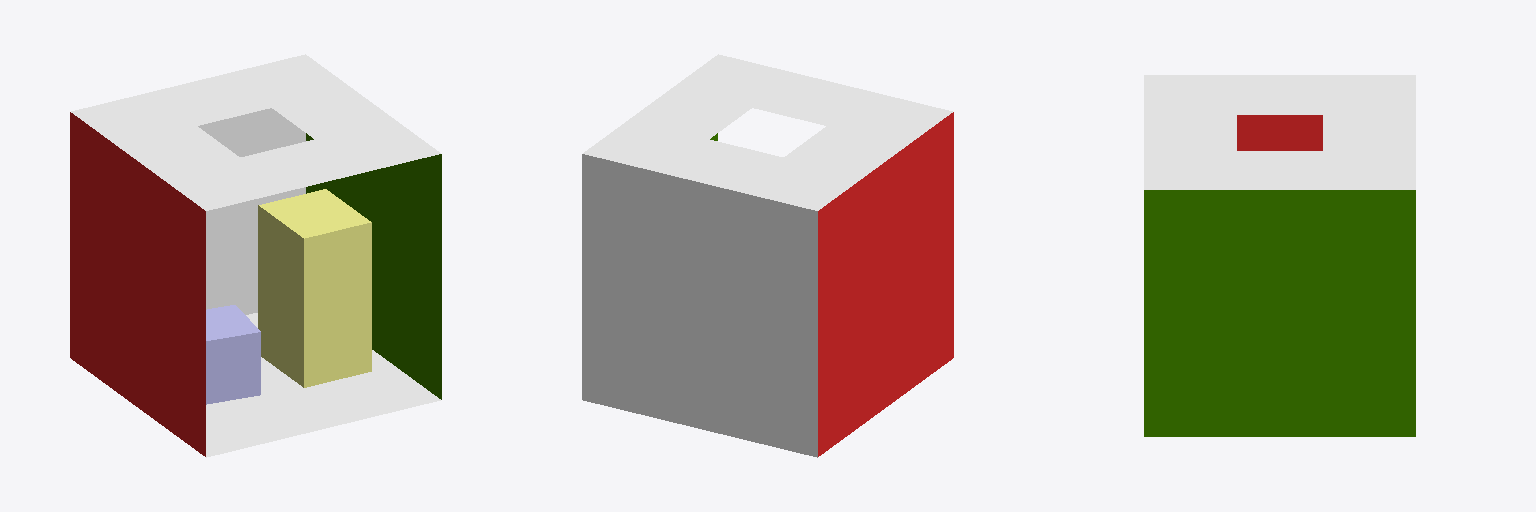
The model's file is cornell.obj.
3 renders of one model, left to right at view 1: azimuth 30°, elevation 25°; view 2: azimuth 150°, elevation 25°; view 3: azimuth 270°, elevation 25°, orthographic.
Visible parts, largest first — view 1: Mesh2 Square The_Cornell_Box1 Model, Mesh1 Mesh_2 The_Cornell_Box1 Model, Mesh3 Mesh_1 The_Cornell_Box1 Model; view 2: Mesh2 Square The_Cornell_Box1 Model; view 3: Mesh2 Square The_Cornell_Box1 Model.
Part boxes in pixels (left/top/right/bottom): Mesh2 Square The_Cornell_Box1 Model: left=70, top=54, right=441, bottom=457; Mesh1 Mesh_2 The_Cornell_Box1 Model: left=258, top=189, right=371, bottom=387; Mesh3 Mesh_1 The_Cornell_Box1 Model: left=206, top=305, right=260, bottom=404; Mesh2 Square The_Cornell_Box1 Model: left=582, top=54, right=953, bottom=457; Mesh2 Square The_Cornell_Box1 Model: left=1144, top=75, right=1415, bottom=436.
Bounding box in the file's own units: 15595 × 15595 × 15595.